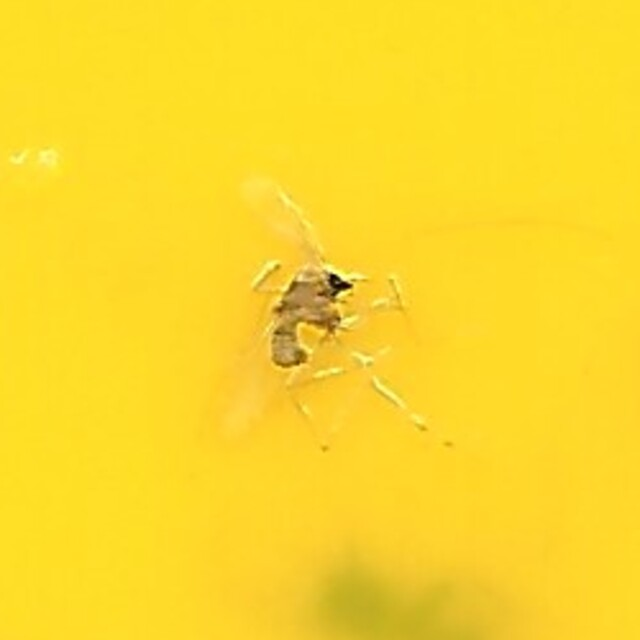Nematocera: (256, 241, 384, 399)
